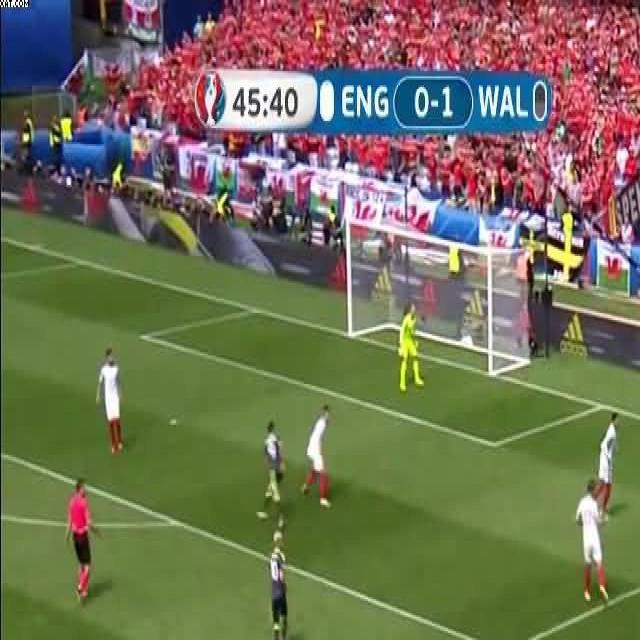player-white: (64, 477, 104, 603), (576, 483, 608, 603), (301, 405, 331, 510), (95, 348, 123, 456), (256, 422, 284, 528), (593, 412, 619, 520), (398, 304, 424, 390), (271, 529, 288, 640)
